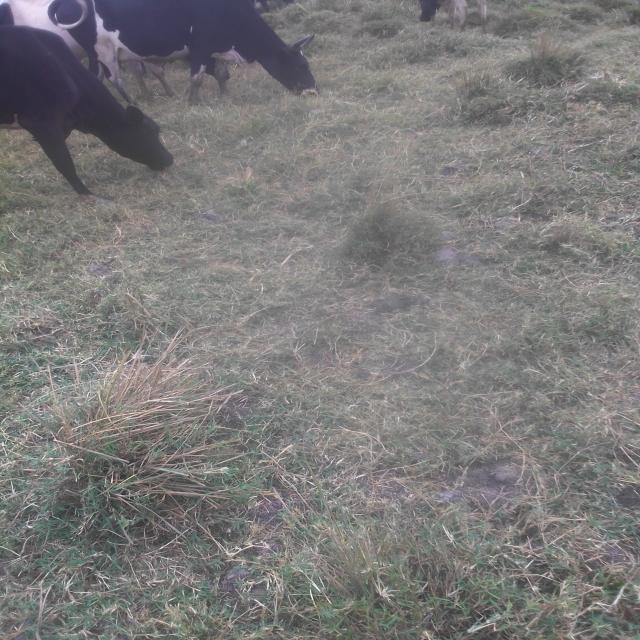Front: (0, 25, 173, 202)
